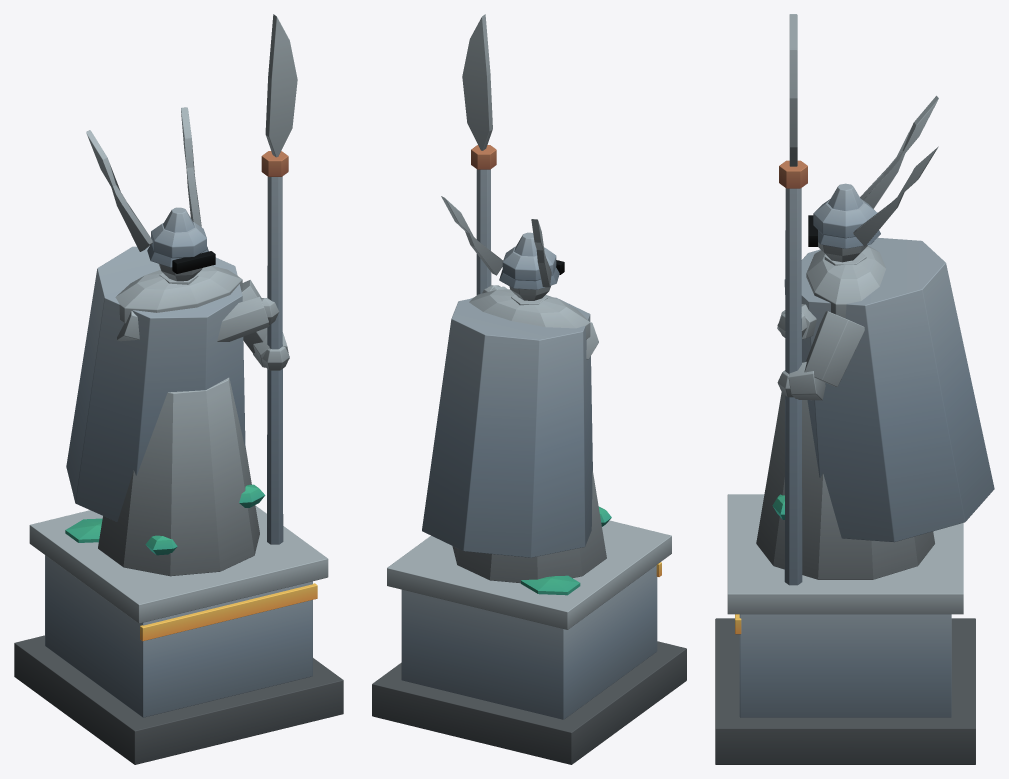
File: guardian_statue.glb
3 renders of one model, left to right at view 1: azimuth 30°, elevation 25°; view 2: azimuth 150°, elevation 25°; view 3: azimuth 270°, elevation 25°, orthographic. The views are drawn at different scales.
Parts seen in each view (by area): view 1: guardian_statue; view 2: guardian_statue; view 3: guardian_statue.
Part boxes in pixels (bbox=[...]): guardian_statue: bbox=[14, 14, 343, 764]; guardian_statue: bbox=[372, 14, 686, 764]; guardian_statue: bbox=[715, 14, 994, 764].
Size of the model in its own units: 1.6 by 4.97 by 1.71.
1 material, 1 textured.
